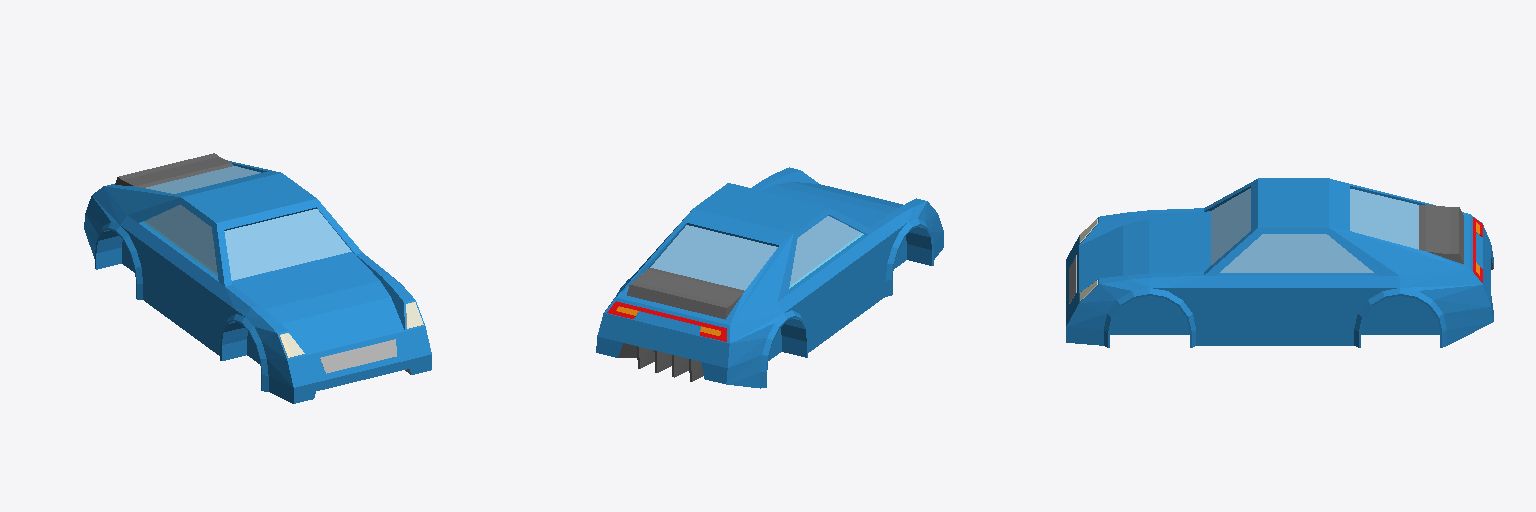
The picture shows the model from 3 angles: view 1: azimuth 30°, elevation 25°; view 2: azimuth 150°, elevation 25°; view 3: azimuth 270°, elevation 25°; orthographic projection.
Bounding box in the file's own units: 0.9288 × 0.591 × 2.16.
Materials: 1 (1 with a texture image).